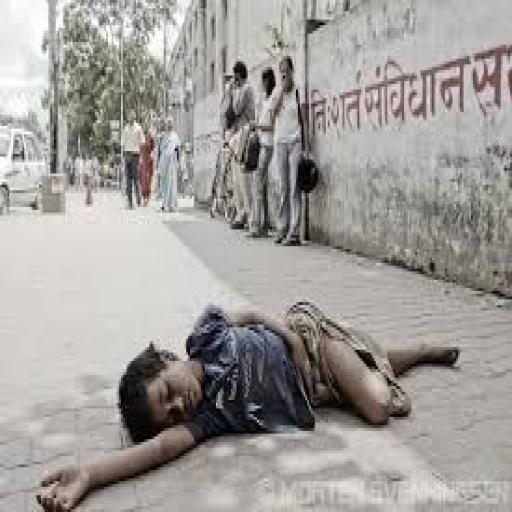sleeping: (34, 297, 462, 509)
